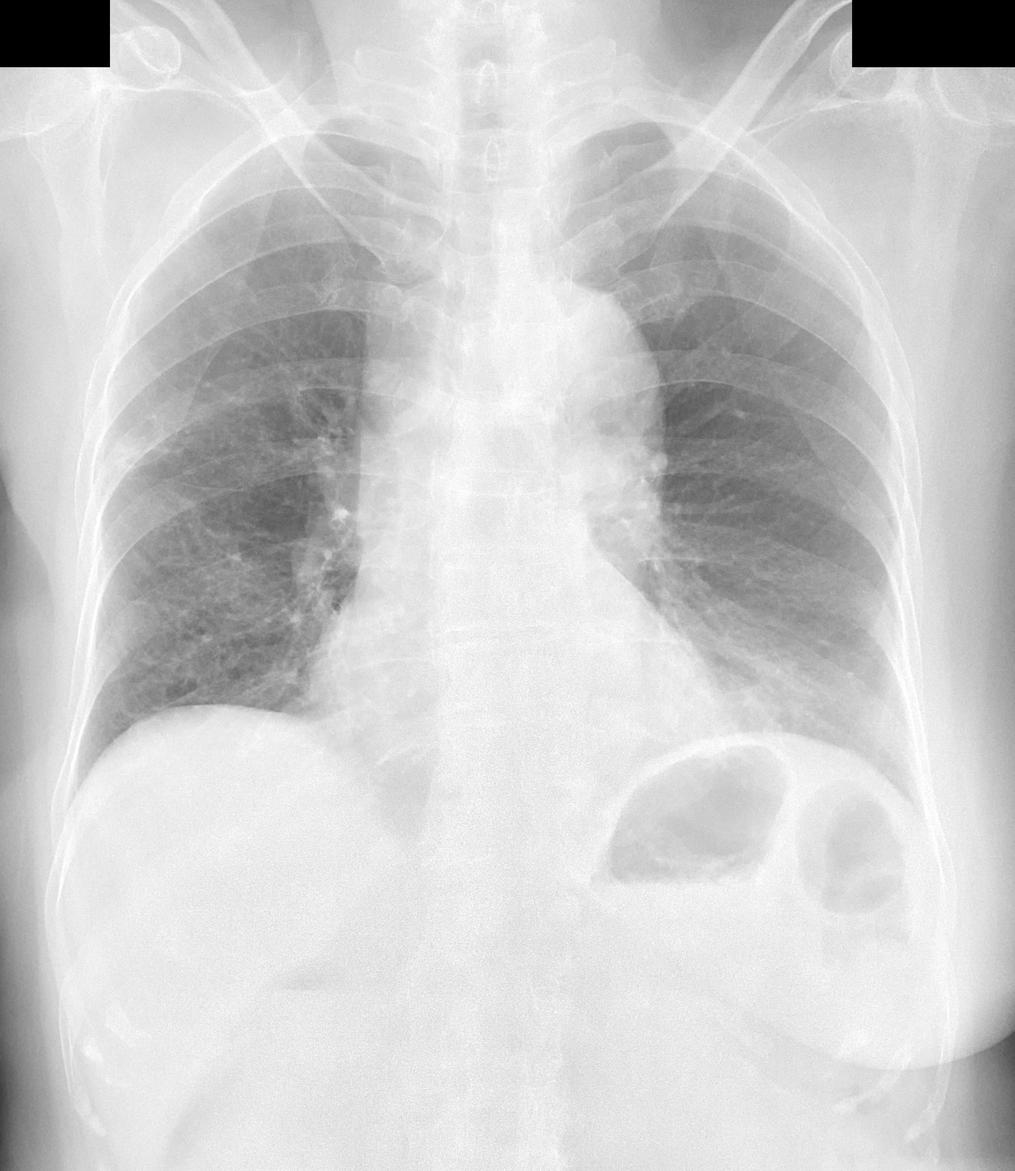Aortic enlargement: (497, 279, 666, 489)
Pulmonary fibrosis: (108, 427, 163, 460)
